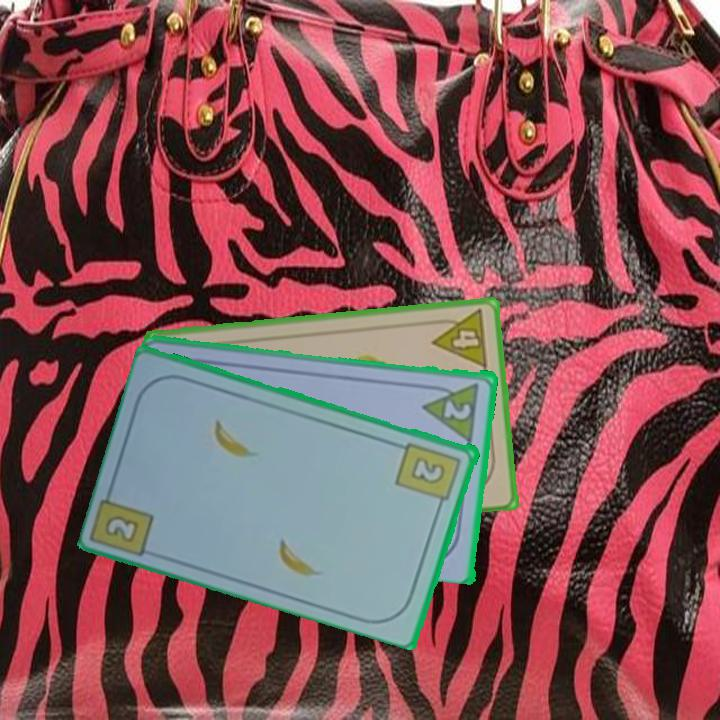2b: (393, 438, 464, 512), (104, 514, 138, 542)
2p: (440, 396, 475, 423)
4p: (427, 306, 491, 371)
